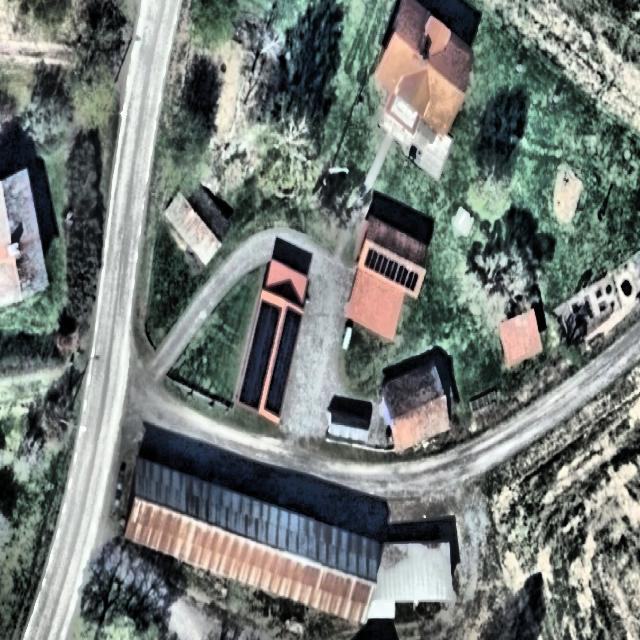roof_pv: (239, 298, 280, 407), (267, 307, 304, 418), (360, 242, 420, 298)
